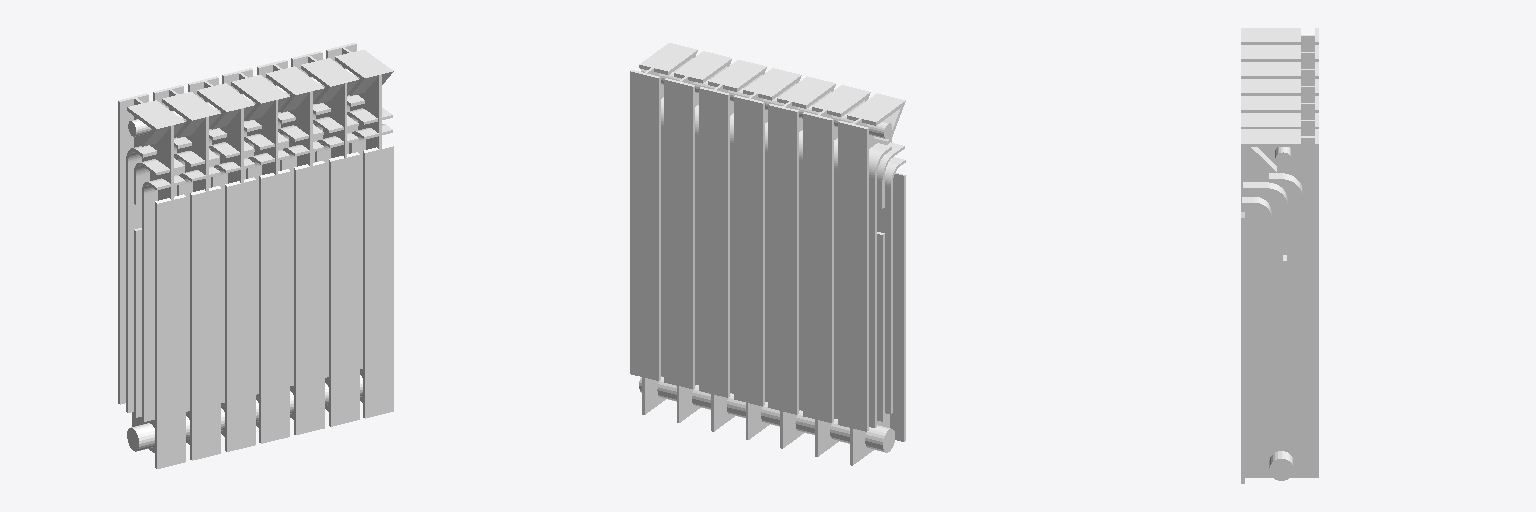
Rendered from termosifone.obj.
3 renders of one model, left to right at view 1: azimuth 30°, elevation 25°; view 2: azimuth 150°, elevation 25°; view 3: azimuth 270°, elevation 25°, orthographic.
Parts seen in each view (by area): view 1: 63_63, 85_85, 18_18, 10_10, 55_55, 33_33, 93_93, 77_77, 47_47, 25_25, 40_40, 70_70 (+20 smaller); view 2: 63_63, 33_33, 18_18, 55_55, 10_10, 93_93, 85_85, 77_77, 2_2, 40_40, 47_47, 70_70 (+20 smaller); view 3: 91_91, 100_100, 105_105, 99_99, 103_103, 101_101, 2_2, 25_25, 40_40, 47_47, 70_70, 102_102.
Boxes of the visible parts, box(x1,y1,x2,y2) form: 63_63: box(118, 97, 170, 468); 85_85: box(291, 55, 344, 426); 18_18: box(222, 72, 275, 443); 10_10: box(257, 63, 309, 434); 55_55: box(153, 89, 205, 460); 33_33: box(188, 80, 240, 451); 93_93: box(326, 46, 378, 418); 77_77: box(309, 51, 359, 422); 47_47: box(170, 85, 220, 456); 25_25: box(239, 68, 289, 439); 40_40: box(204, 76, 255, 447); 70_70: box(135, 93, 185, 464); 63_63: box(853, 97, 905, 464); 33_33: box(783, 80, 835, 447); 18_18: box(748, 72, 801, 436); 55_55: box(818, 89, 870, 454); 10_10: box(714, 63, 766, 428); 93_93: box(645, 46, 697, 412); 85_85: box(679, 55, 731, 421); 77_77: box(664, 51, 714, 385); 2_2: box(699, 60, 750, 393); 40_40: box(768, 76, 819, 410); 47_47: box(803, 85, 853, 418); 70_70: box(838, 93, 888, 427); 91_91: box(1241, 136, 1318, 477); 100_100: box(1241, 138, 1318, 483); 105_105: box(1269, 173, 1302, 448); 99_99: box(1242, 197, 1271, 446); 103_103: box(1283, 255, 1286, 447); 101_101: box(1269, 451, 1293, 480); 2_2: box(1241, 104, 1318, 112); 25_25: box(1241, 87, 1318, 95); 40_40: box(1241, 70, 1318, 78); 47_47: box(1241, 53, 1318, 61); 70_70: box(1241, 36, 1318, 44); 102_102: box(1243, 182, 1287, 234).
Size of the model in its own units: 68.3 by 91 by 19.